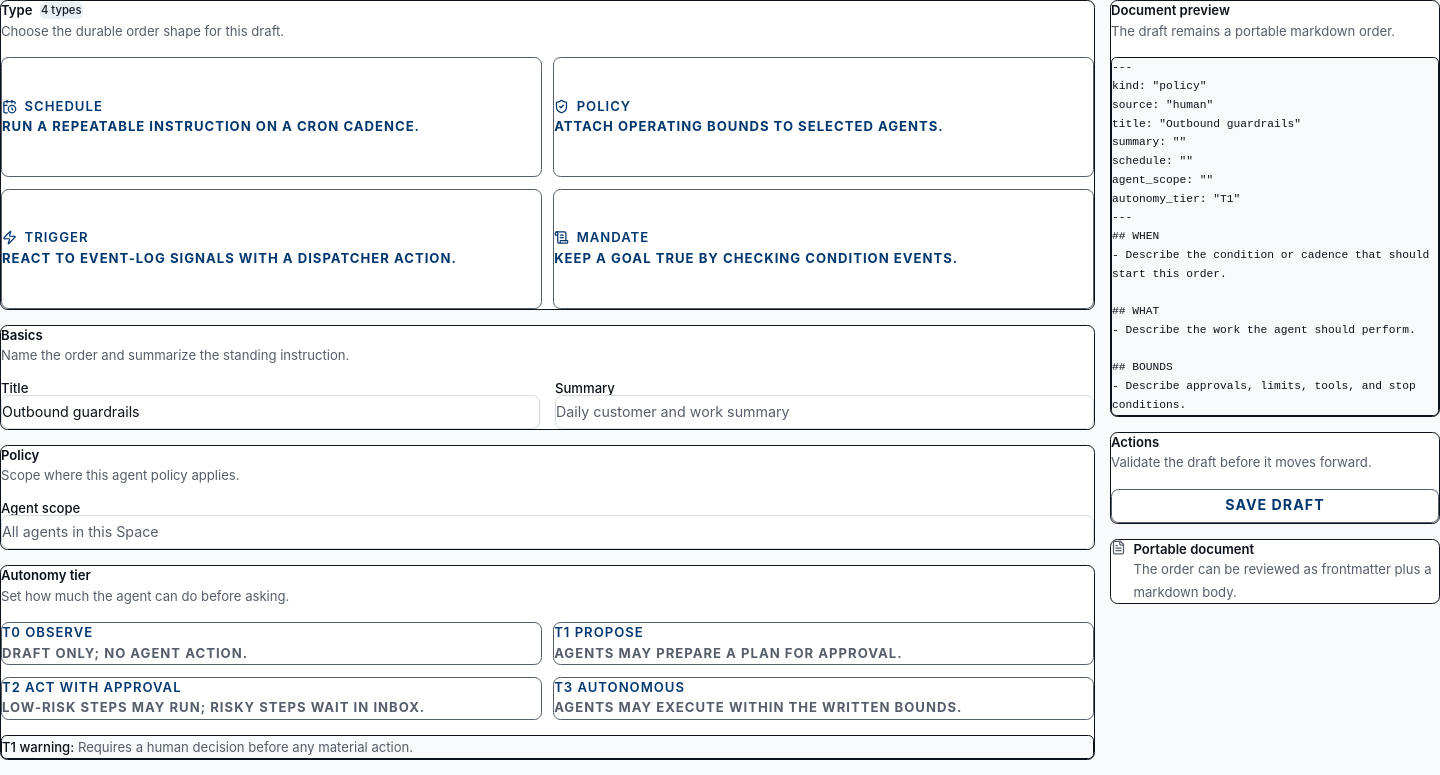
validates policy agent scope separately from schedule cron
Click the button "Save draft".
click(1275, 506)  # box [1111,489,1439,523]
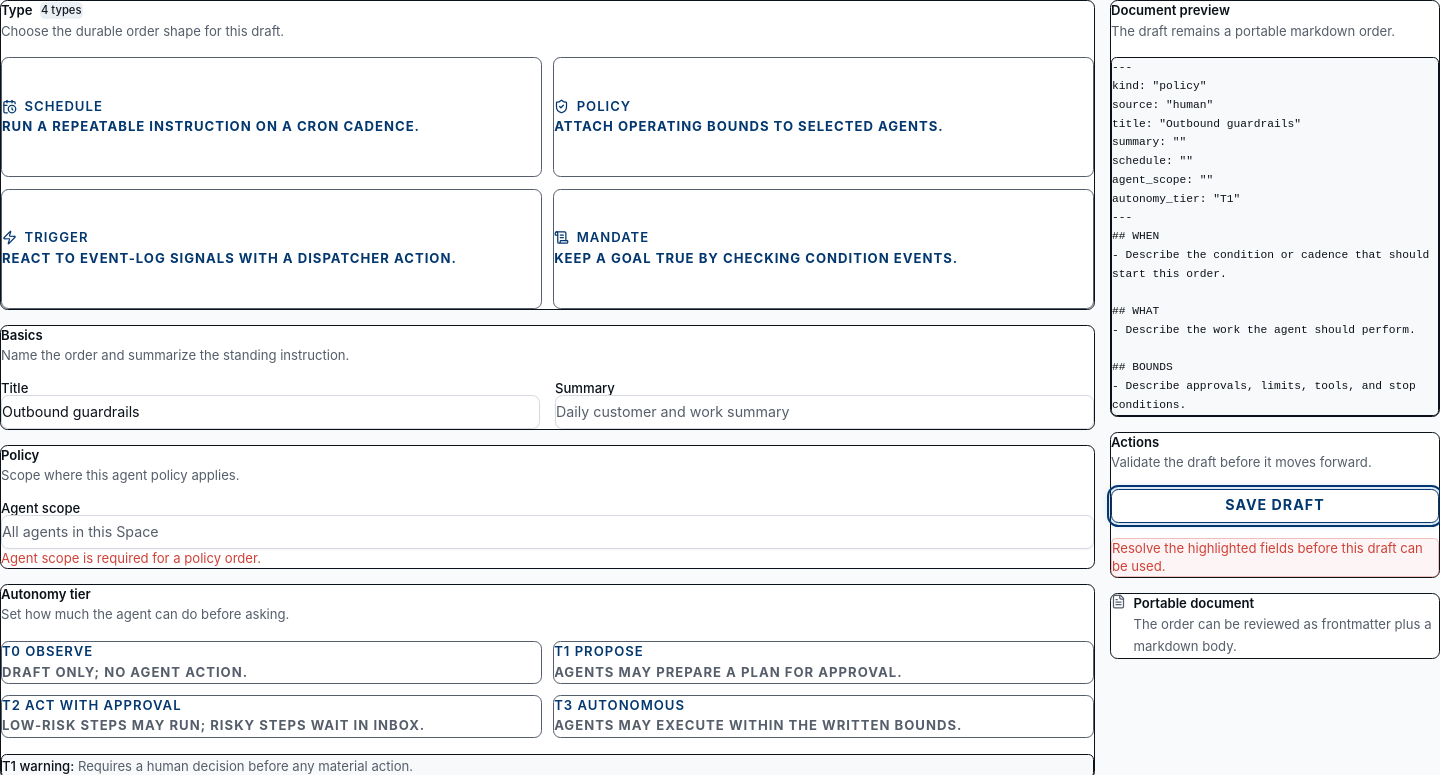
Type "Customer Success agents" into the field with id "order-editor-agent-scope".
click(548, 532); type("Customer Success agents")  # box [1,515,1094,549]
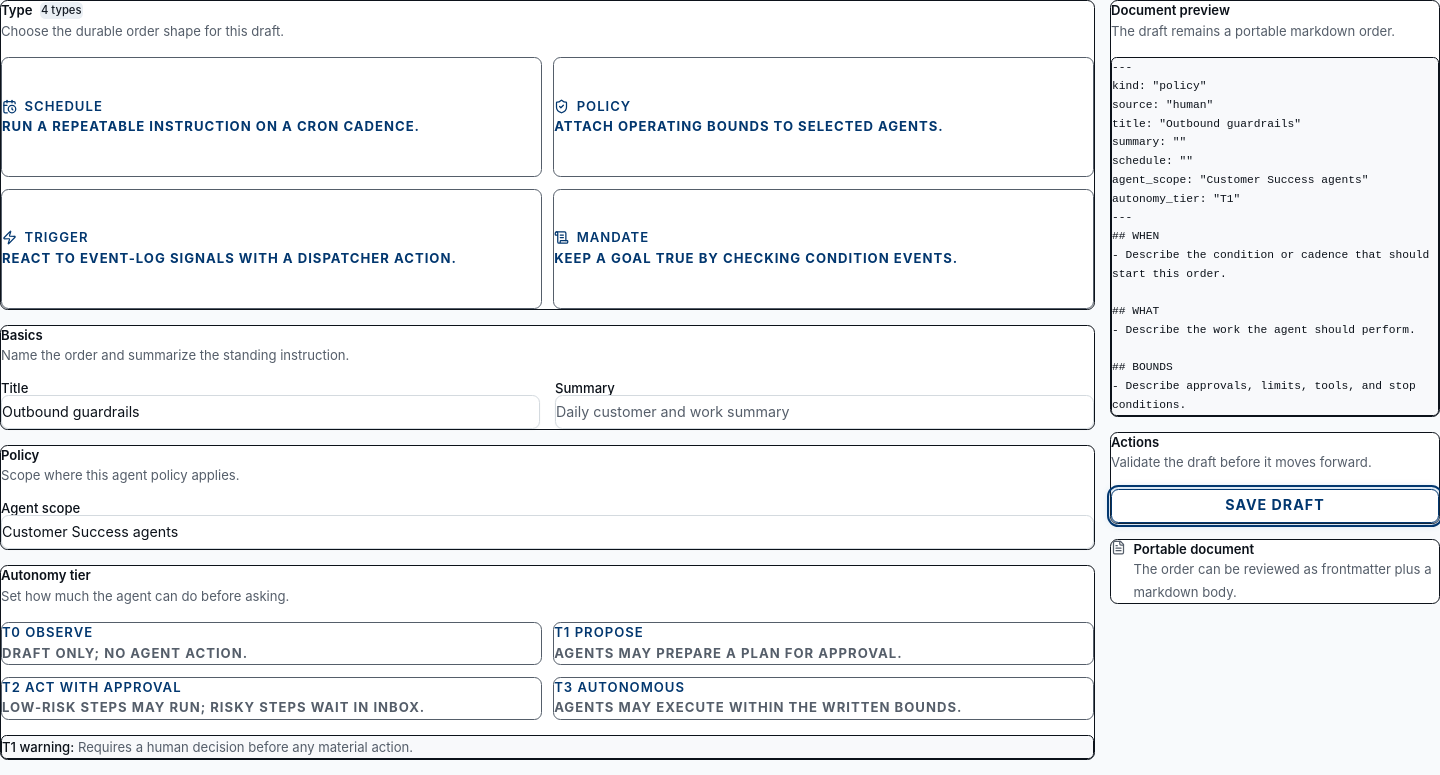
Click the button "Save draft".
click(1275, 506)  # box [1111,489,1439,523]
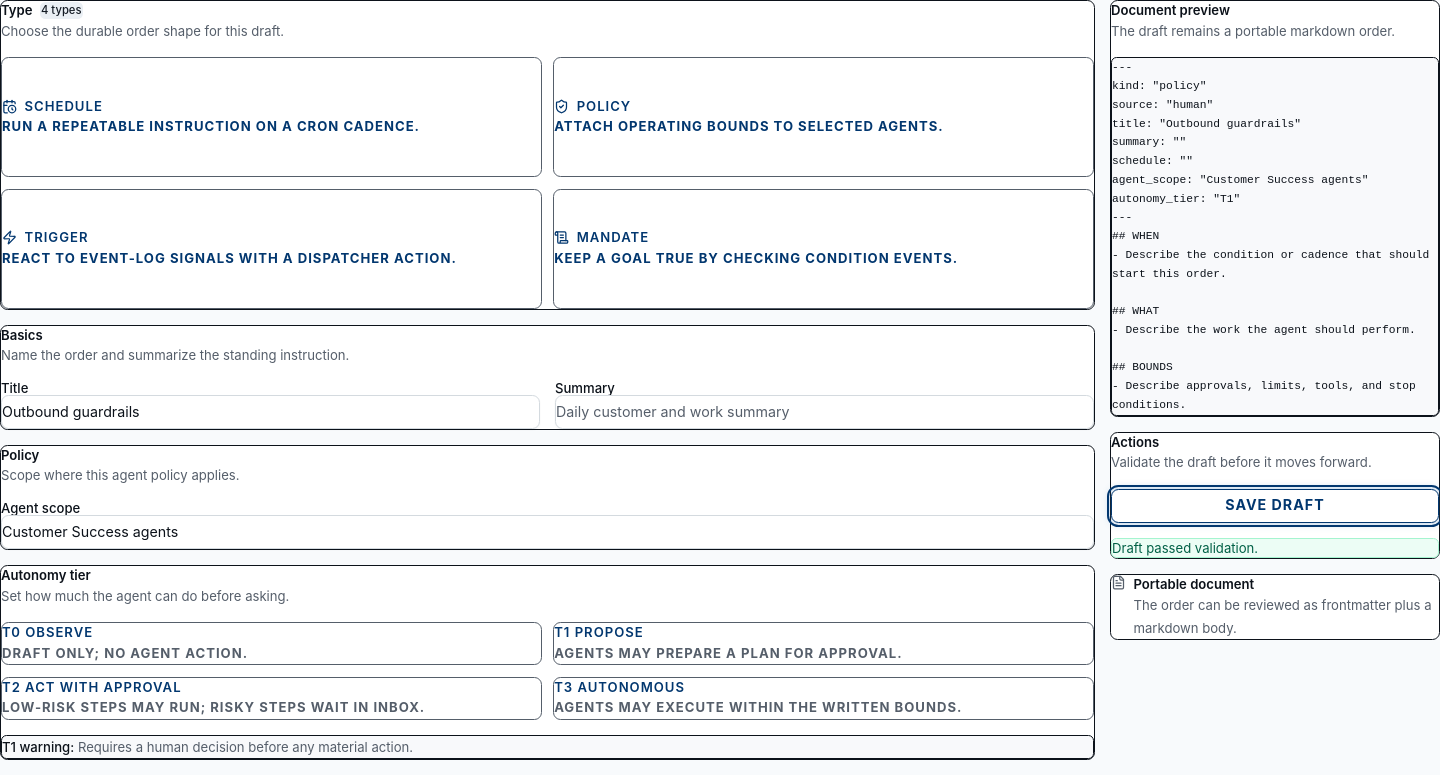
Click the button "Schedule Run a repeatable instruction on a cron cadence.".
click(271, 117)  # box [1,57,542,177]
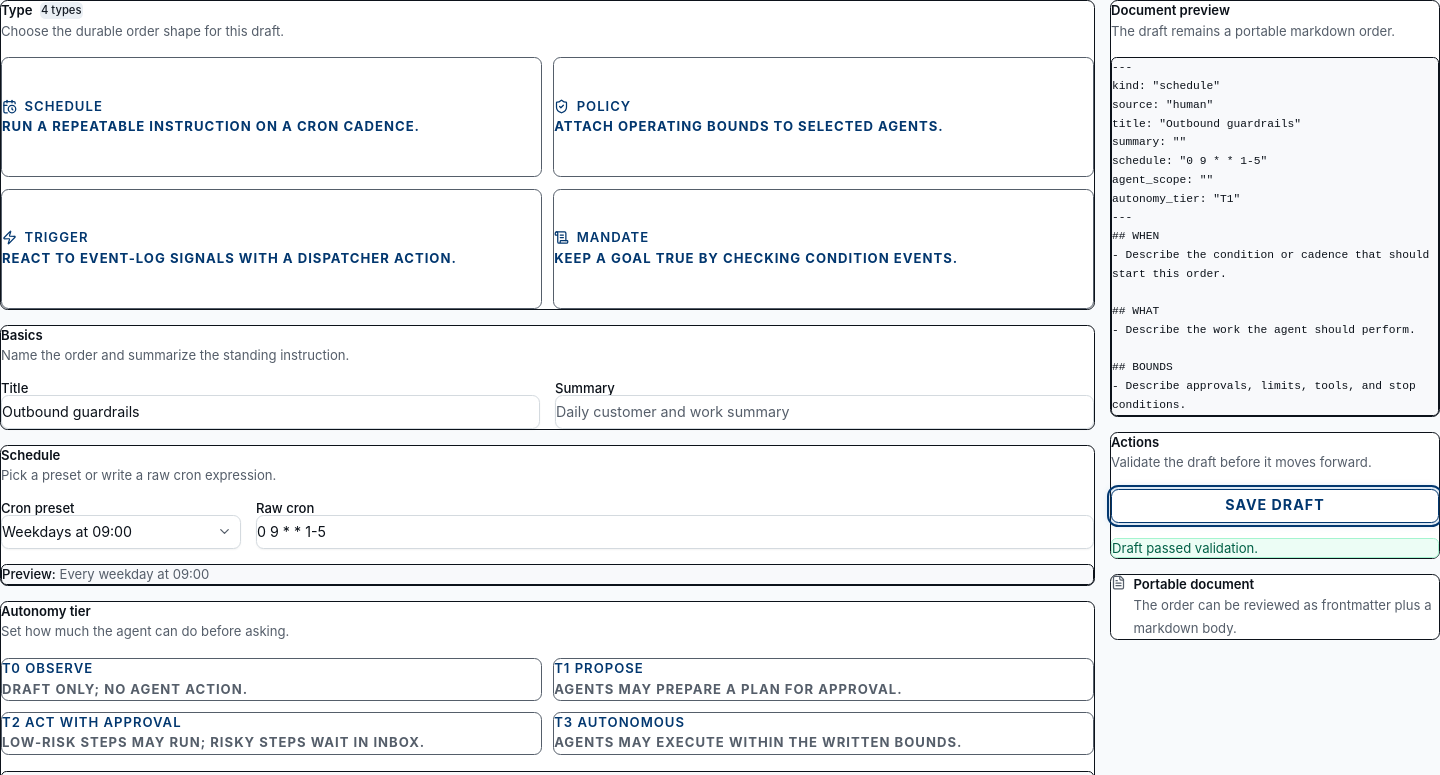
expect the field labelled "Raw cron" is shown: met, box [256,515,1094,549]
